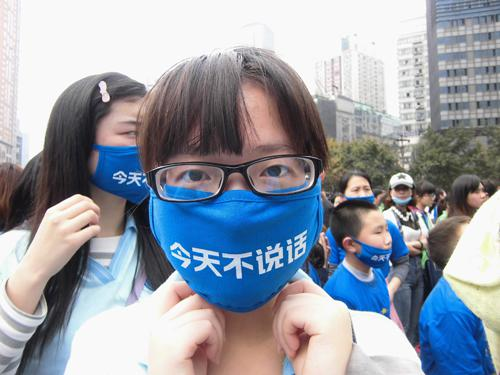NONE: (100, 115, 166, 206), (470, 187, 489, 210), (422, 193, 437, 208)
OK: (151, 133, 310, 292)
WRONG: (351, 222, 396, 267), (346, 183, 375, 213), (391, 186, 412, 205)
